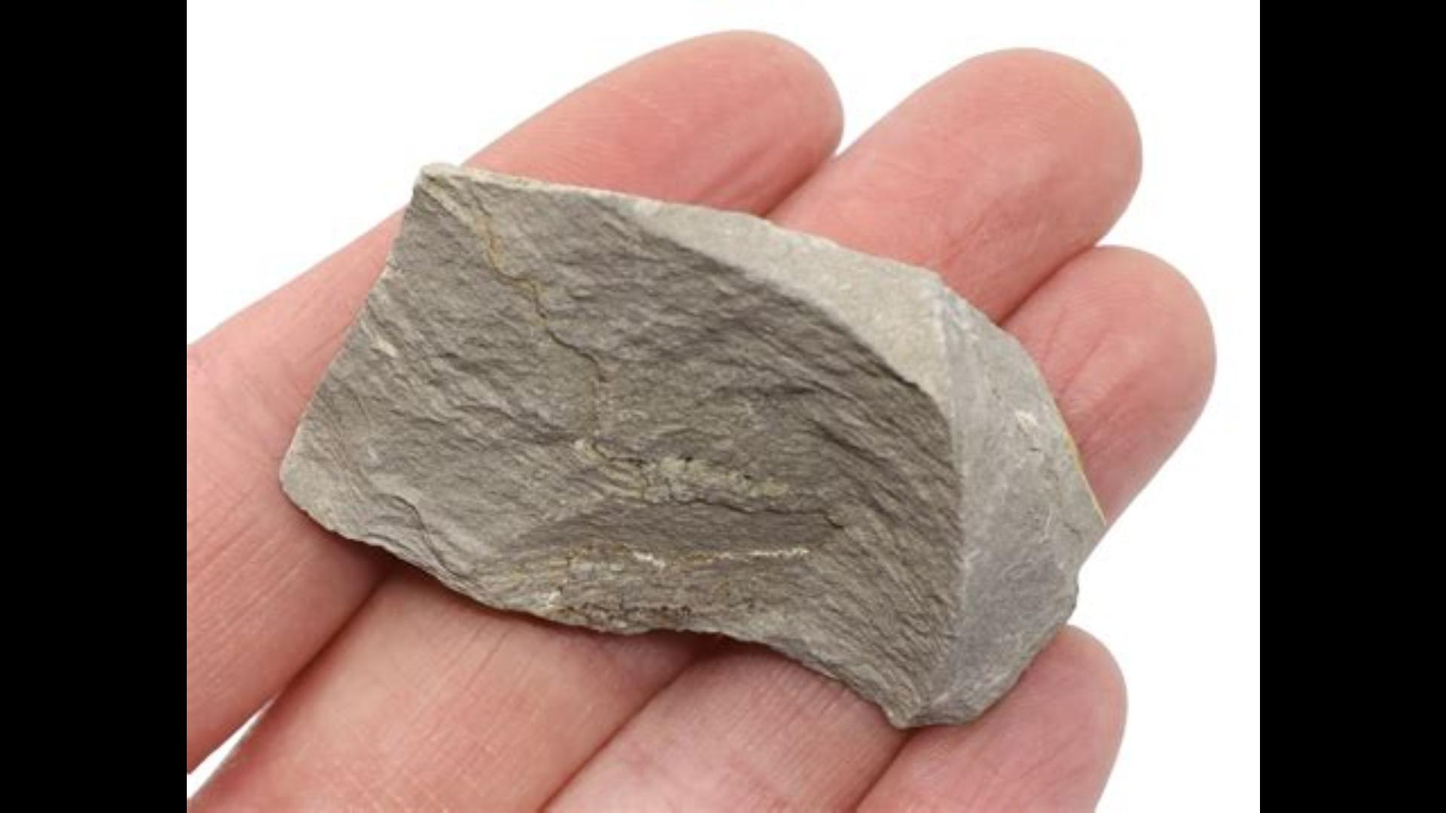rock: (281, 172, 1101, 725)
